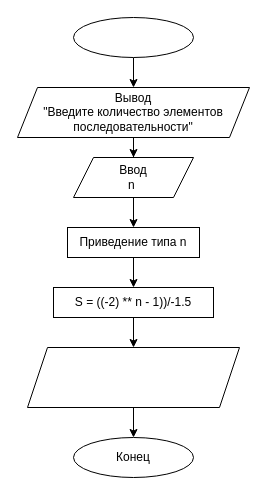
This 267x495 diagram has some shape labels left out. Each missing label, with the centre of its shape:
Вывод "Сумма первых {n} членов последовательности равна {S}": [133,377]
Начало: [133,37]
